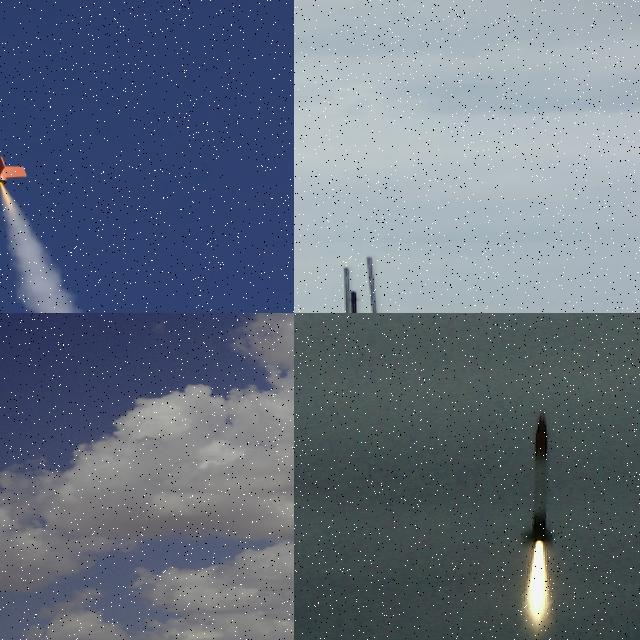Rocket: (0, 1, 28, 190), (530, 412, 552, 542)
